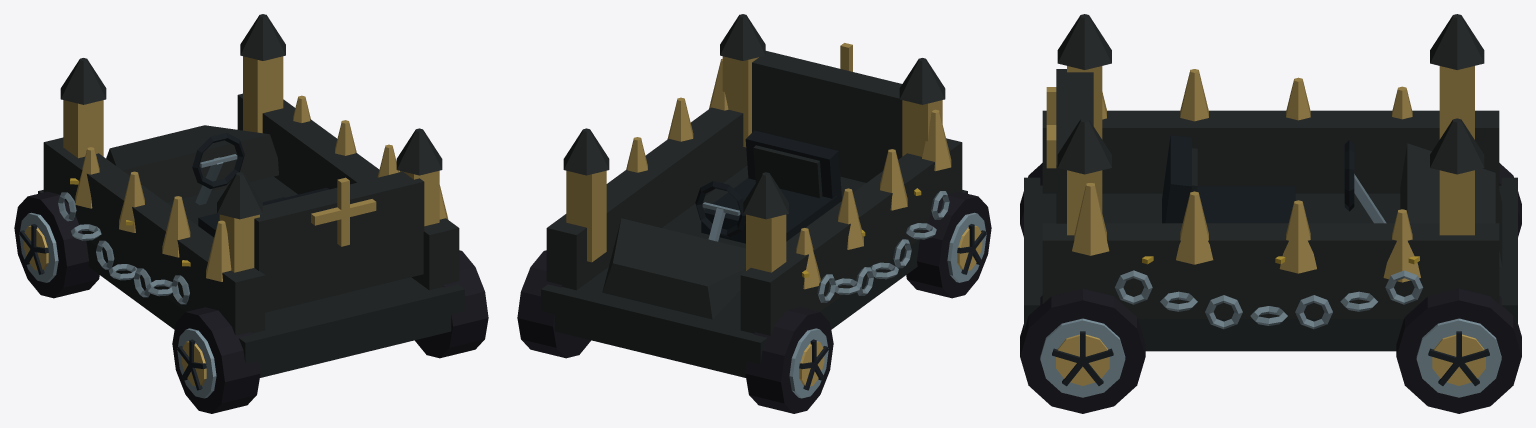
The model's file is kart.glb.
The picture shows the model from 3 angles, left to right: view 1: azimuth 30°, elevation 25°; view 2: azimuth 150°, elevation 25°; view 3: azimuth 270°, elevation 25°; orthographic projection. The views are drawn at different scales.
Parts seen in each view (by area): view 1: identity-reliquary-reliquary-arched-stone-chest, wheel-rear-left, wheel-front-left, identity-reliquary-motif-spines, wheel-rear-right, identity-reliquary-motif-chains, identity-reliquary-driver-cockpit; view 2: identity-reliquary-reliquary-arched-stone-chest, identity-reliquary-driver-cockpit, wheel-front-left, wheel-rear-left, identity-reliquary-motif-spines, wheel-front-right, identity-reliquary-motif-chains; view 3: identity-reliquary-reliquary-arched-stone-chest, wheel-front-right, wheel-rear-right, identity-reliquary-motif-spines, identity-reliquary-driver-cockpit, identity-reliquary-motif-chains.
Part boxes in pixels (<box>): identity-reliquary-reliquary-arched-stone-chest: <box>38,14,464,377</box>; wheel-rear-left: <box>172,307,260,413</box>; wheel-front-left: <box>14,191,99,298</box>; identity-reliquary-motif-spines: <box>75,95,448,281</box>; wheel-rear-right: <box>415,250,488,358</box>; identity-reliquary-motif-chains: <box>58,192,189,304</box>; identity-reliquary-driver-cockpit: <box>192,132,329,237</box>; identity-reliquary-reliquary-arched-stone-chest: <box>541,14,967,377</box>; identity-reliquary-driver-cockpit: <box>695,130,841,243</box>; wheel-front-left: <box>745,307,833,413</box>; wheel-rear-left: <box>906,191,991,298</box>; identity-reliquary-motif-spines: <box>626,59,951,289</box>; wheel-front-right: <box>517,250,590,358</box>; identity-reliquary-motif-chains: <box>817,191,949,302</box>; identity-reliquary-reliquary-arched-stone-chest: <box>1024,14,1517,351</box>; wheel-front-right: <box>1396,288,1521,413</box>; wheel-rear-right: <box>1020,288,1145,413</box>; identity-reliquary-motif-spines: <box>1072,69,1420,282</box>; identity-reliquary-driver-cockpit: <box>1162,135,1386,223</box>; identity-reliquary-motif-chains: <box>1115,270,1423,329</box>.
Size of the model in its own units: 1.99 by 1.51 by 2.56.
